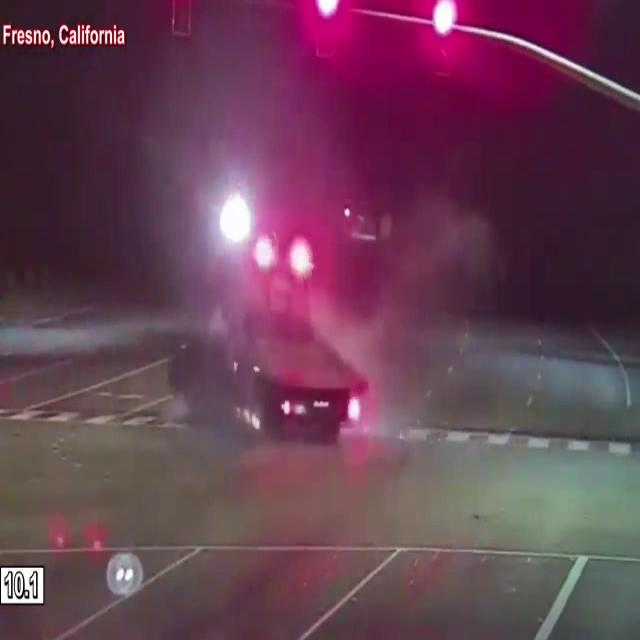accident: (154, 222, 378, 455)
